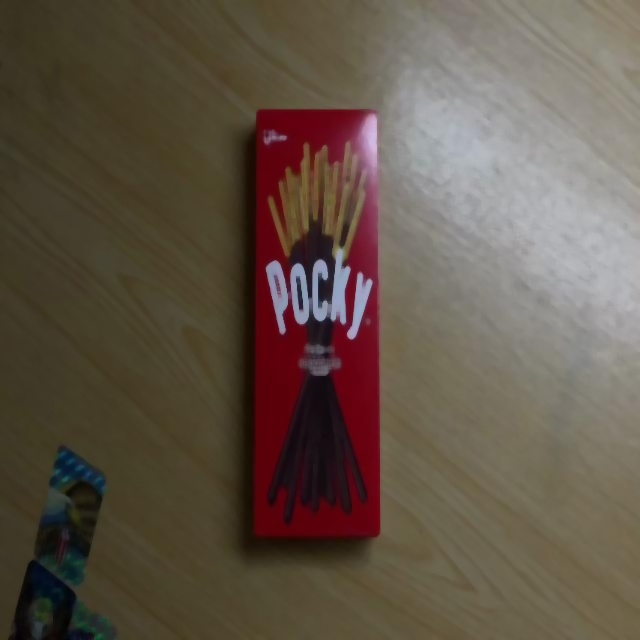Pocky: (251, 109, 383, 541)
